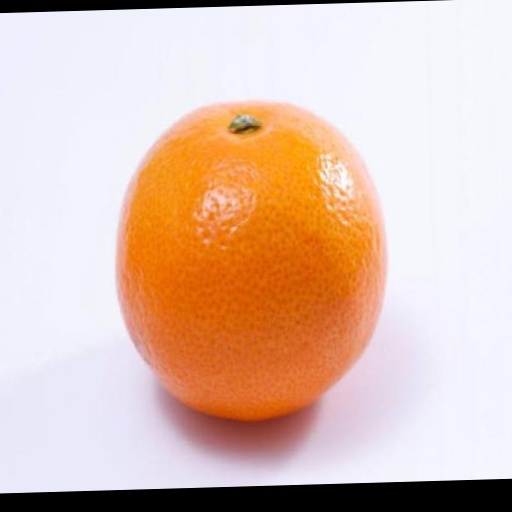fruit: (116, 102, 385, 420)
